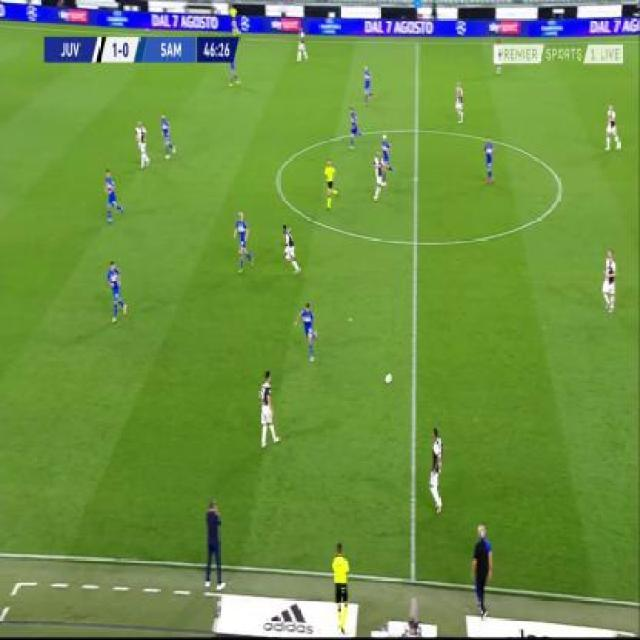ball: (384, 370, 393, 386)
player: (203, 495, 226, 592), (471, 522, 494, 619), (256, 367, 279, 449), (426, 422, 446, 515), (331, 540, 351, 626), (105, 259, 128, 324), (232, 210, 254, 276), (296, 302, 319, 364), (601, 246, 620, 317), (103, 166, 125, 223), (603, 101, 623, 154), (280, 221, 300, 274), (158, 111, 177, 160), (322, 155, 338, 211), (134, 119, 151, 170), (371, 148, 385, 204), (379, 135, 395, 181), (348, 107, 364, 149), (482, 138, 496, 186), (453, 78, 466, 124), (361, 63, 374, 103), (296, 26, 310, 63), (227, 58, 241, 89), (229, 2, 240, 38)
